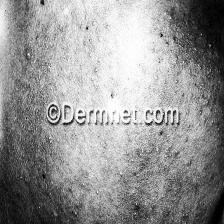Non-Cancerous Skin Condition: (41, 15, 224, 96), (47, 148, 199, 224)
